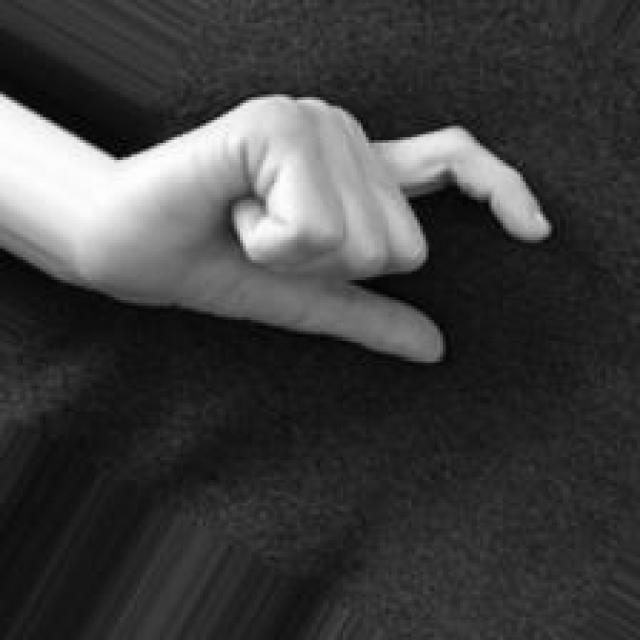C: (119, 91, 554, 364)
